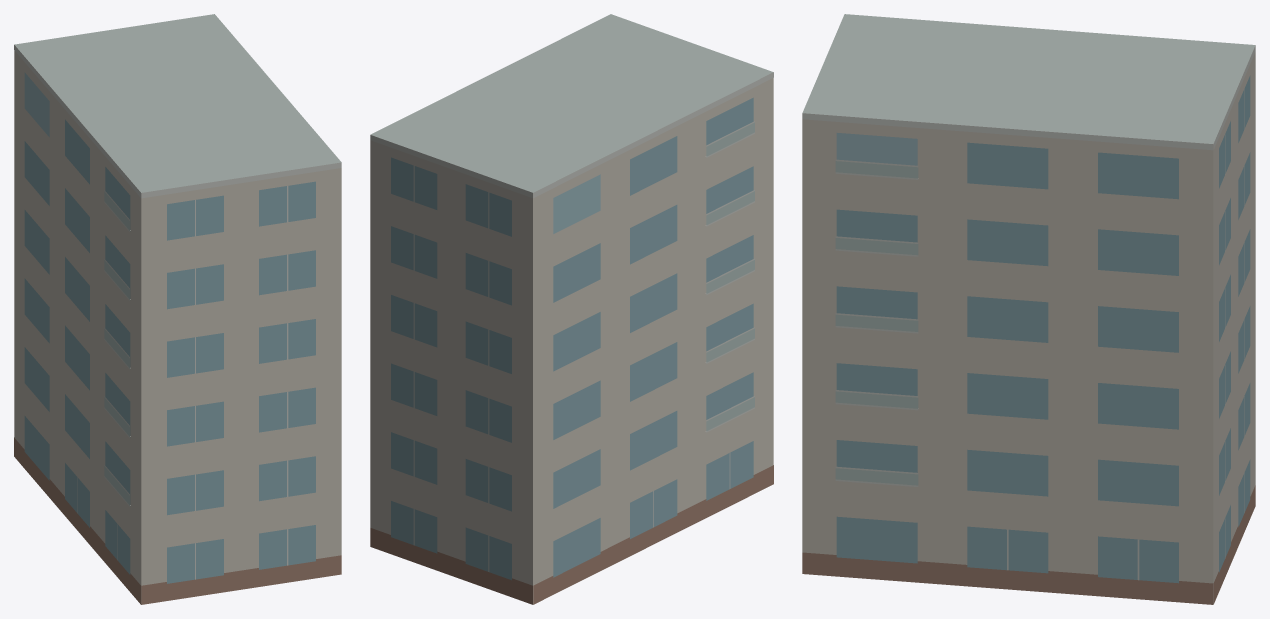
Rendered from survey-upis-32653031.glb.
The picture shows the model from 3 angles, left to right: view 1: azimuth 30°, elevation 25°; view 2: azimuth 150°, elevation 25°; view 3: azimuth 270°, elevation 25°; orthographic projection. The views are drawn at different scales.
Parts seen in each view (by area): view 1: survey-upis-32653031.tmp; view 2: survey-upis-32653031.tmp; view 3: survey-upis-32653031.tmp.
Part boxes in pixels (x1=…): survey-upis-32653031.tmp: x1=14, y1=14, x2=341, y2=604; survey-upis-32653031.tmp: x1=370, y1=14, x2=773, y2=604; survey-upis-32653031.tmp: x1=802, y1=14, x2=1255, y2=604.
Bounding box in the file's own units: 11.1 × 18.3 × 16.33.
